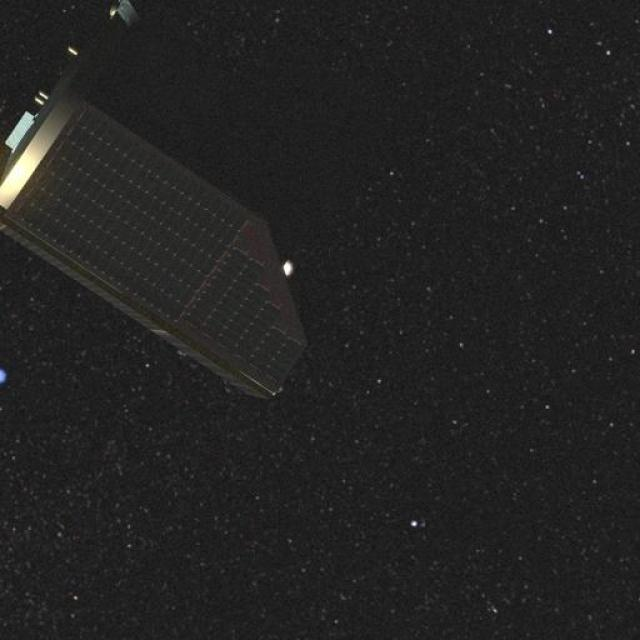cheops: (0, 0, 325, 398)
